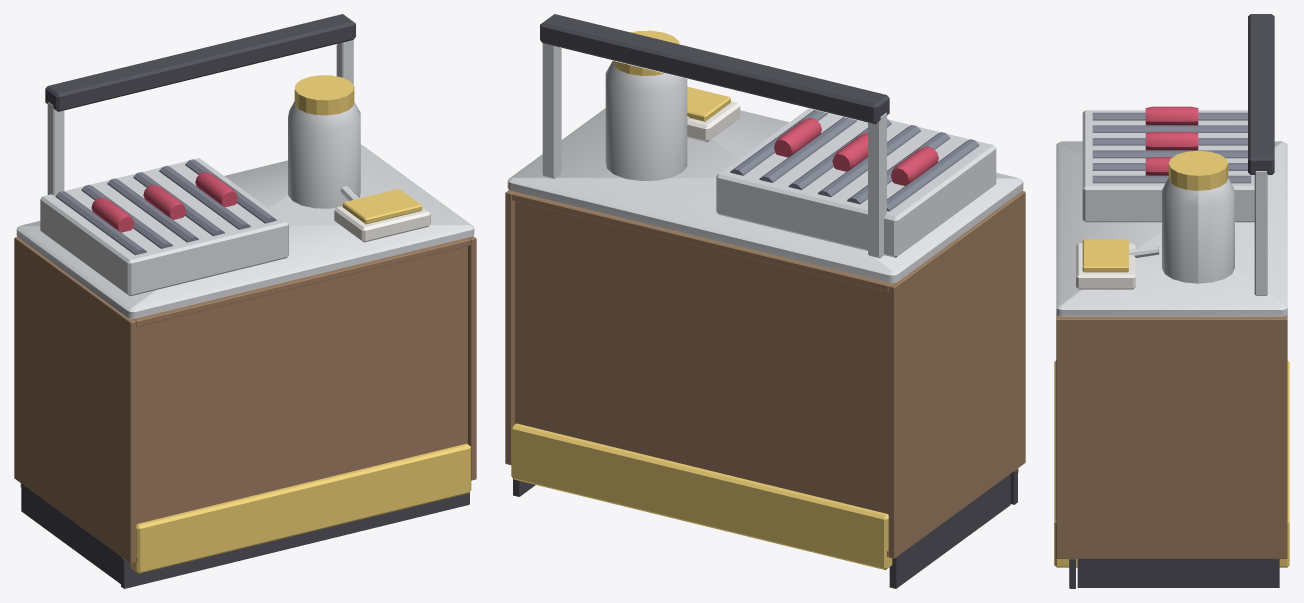
File: cinema-multiplex-and-foyer-nacho-and-hot-dog-counter-686a7c9e.glb
3 renders of one model, left to right at view 1: azimuth 30°, elevation 25°; view 2: azimuth 150°, elevation 25°; view 3: azimuth 270°, elevation 25°, orthographic. The views are drawn at different scales.
Visible parts, largest first — view 1: nacho-and-hot-dog-counter; view 2: nacho-and-hot-dog-counter; view 3: nacho-and-hot-dog-counter.
Part boxes in pixels (bbox=[...]): nacho-and-hot-dog-counter: bbox=[14, 14, 476, 588]; nacho-and-hot-dog-counter: bbox=[505, 14, 1025, 588]; nacho-and-hot-dog-counter: bbox=[1054, 14, 1289, 588].
Bounding box in the file's own units: 1.2 × 1.4 × 0.7119.
